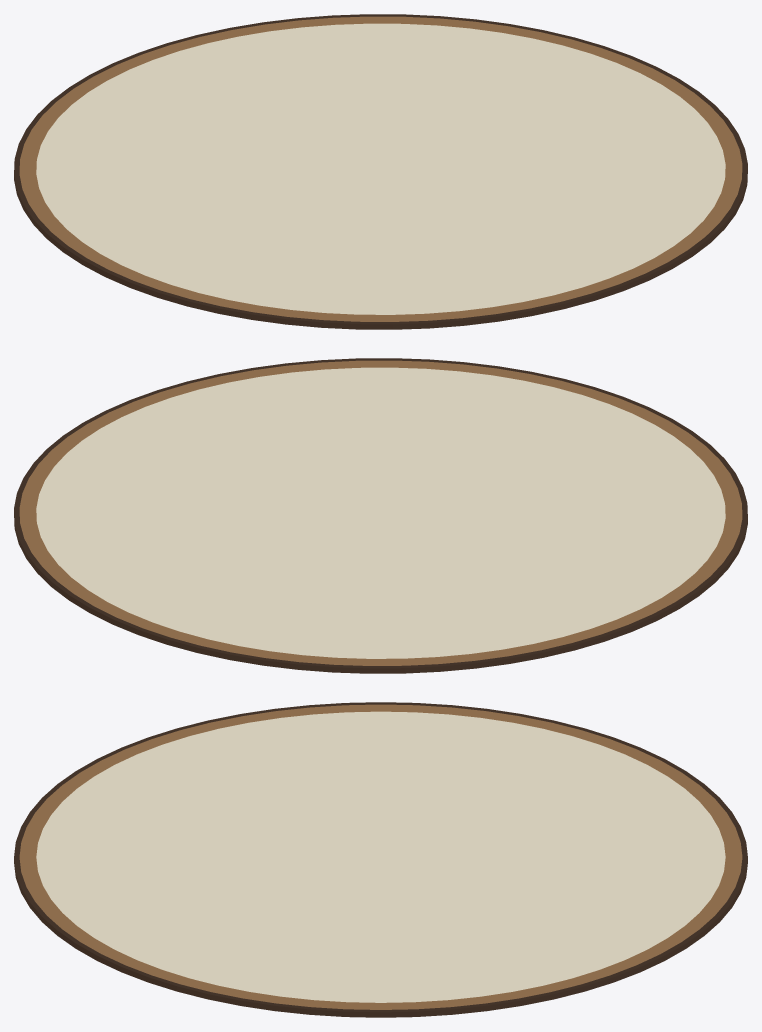
Rendered from teahouse-round-rug.glb.
The picture shows the model from 3 angles, top to bottom: view 1: azimuth 30°, elevation 25°; view 2: azimuth 150°, elevation 25°; view 3: azimuth 270°, elevation 25°; orthographic projection.
Visible parts, largest first — view 1: library-round-rug.007; view 2: library-round-rug.007; view 3: library-round-rug.007.
Part boxes in pixels (box(x1,y1,x2,y2)): library-round-rug.007: box(14, 14, 747, 329); library-round-rug.007: box(14, 358, 747, 673); library-round-rug.007: box(14, 702, 747, 1017).
Size of the model in its own units: 2.4 by 0.0196 by 2.4.
